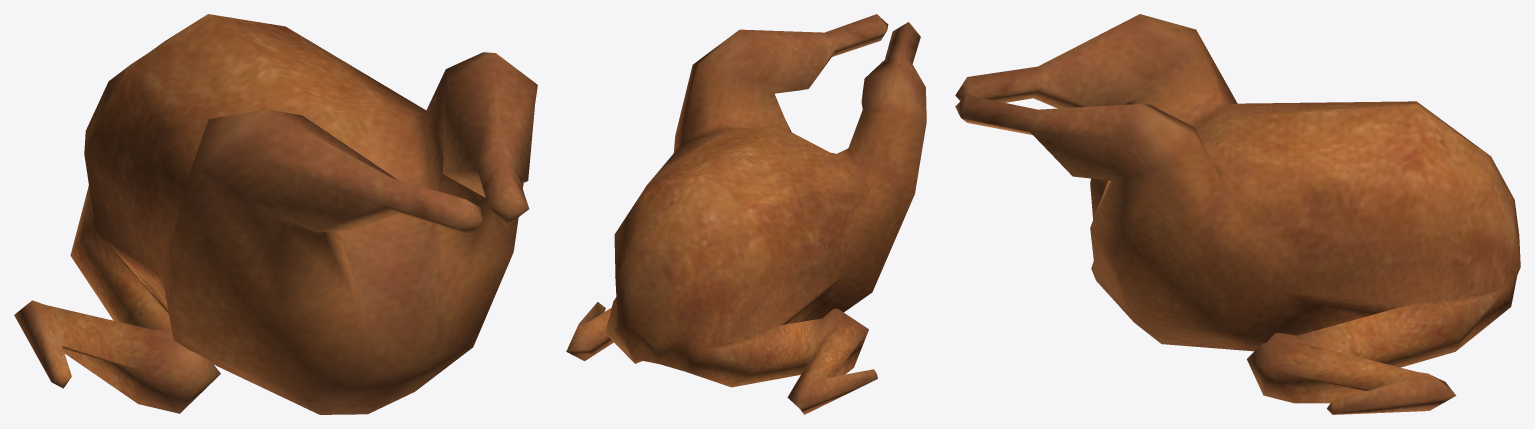
The model's file is RoastChicken.fbx.
3 views of the same model, side by side, from view 1: azimuth 30°, elevation 25°; view 2: azimuth 150°, elevation 25°; view 3: azimuth 270°, elevation 25° (orthographic). The views are drawn at different scales.
Visible parts, largest first — view 1: Empty_Mesh; view 2: Empty_Mesh; view 3: Empty_Mesh.
Part boxes in pixels (bbox=[...]): Empty_Mesh: bbox=[14, 14, 537, 414]; Empty_Mesh: bbox=[566, 14, 926, 414]; Empty_Mesh: bbox=[955, 14, 1520, 414].
Bounding box in the file's own units: 0.3219 × 0.272 × 0.4726.
